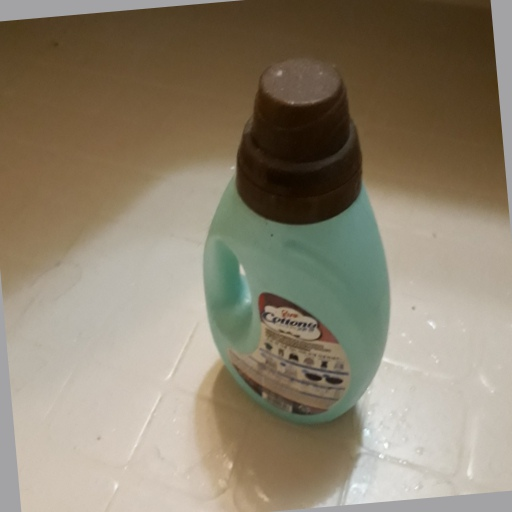Plastic_1: (206, 56, 390, 424)
